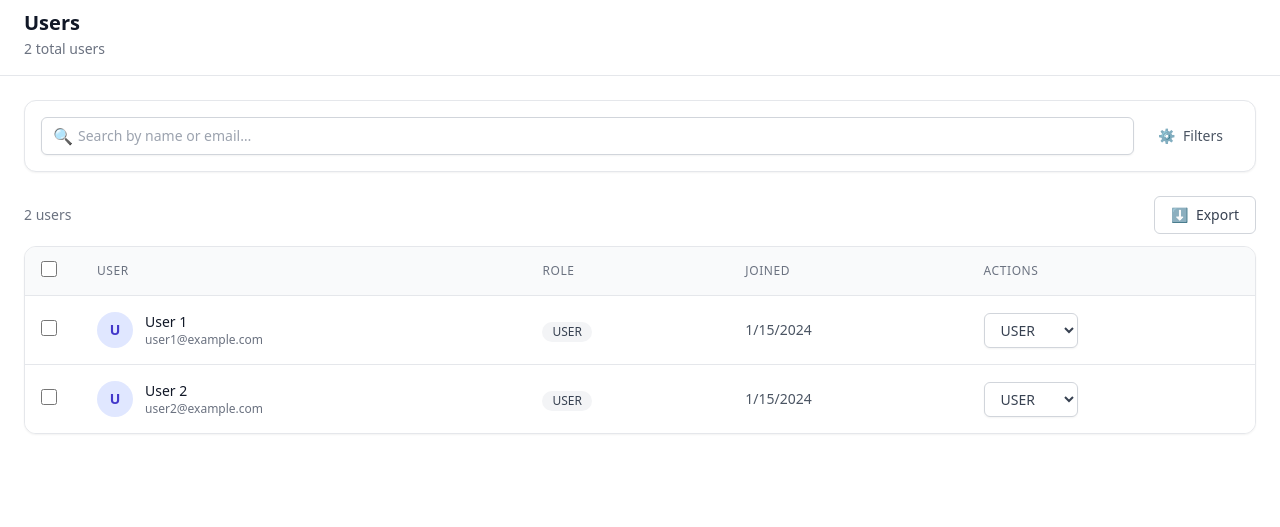
Test case: AdminUsersPage › deselects all when select-all is clicked again
The width and height of the screenshot is (1280, 527).
Check: the table is shown, box [25, 247, 1255, 433]
What coordinates should you click on to do the following:
click the checkbox in the row of "Role"
I would click on:
 (49, 269)
Its box is [41, 261, 57, 277].
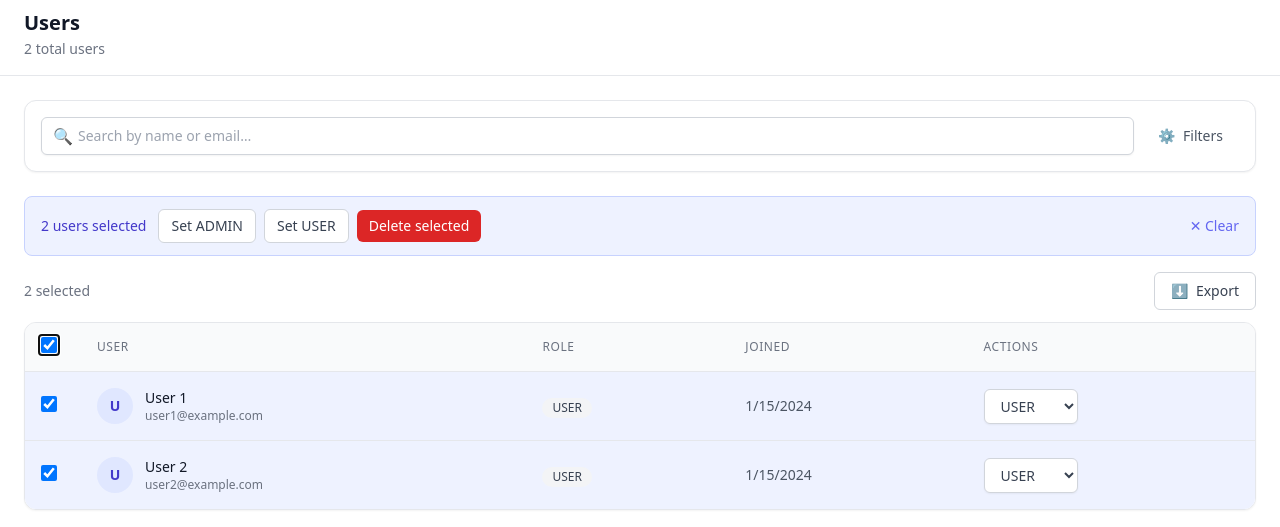
What coordinates should you click on to do the following:
click the checkbox in the row of "Role"
I would click on:
 (49, 345)
Its box is [41, 337, 57, 353].
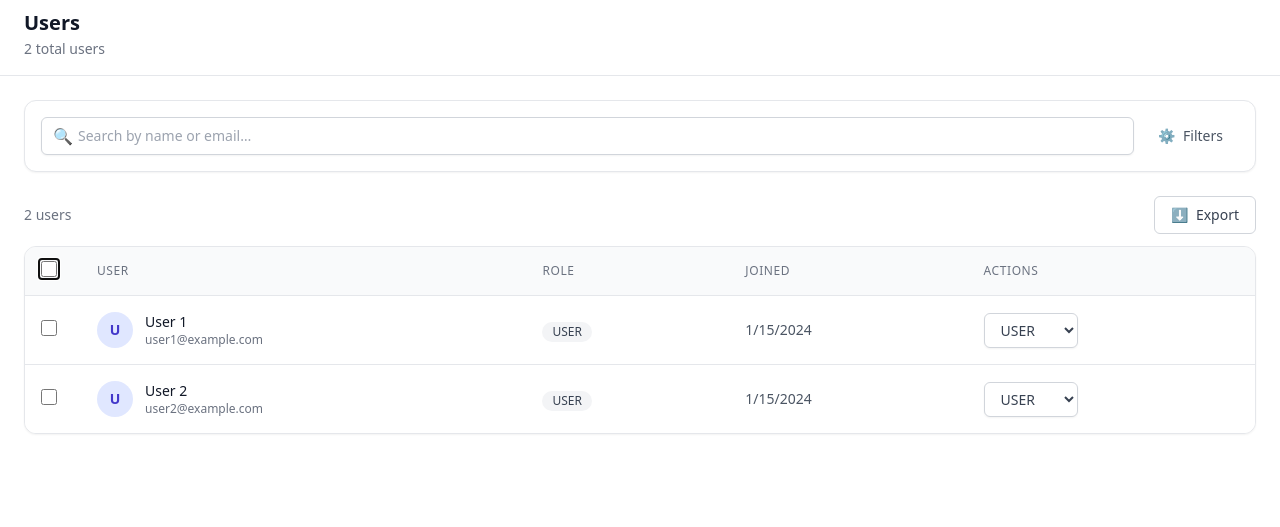
Check: the text "users selected" is gone
